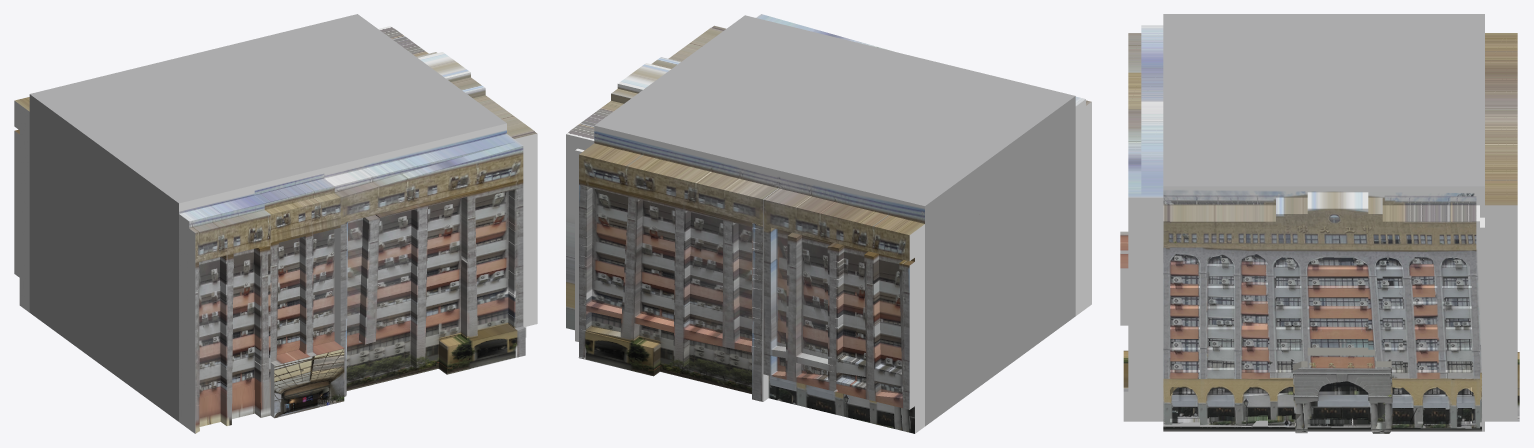
Rendered from zhongzheng.glb.
3 views of the same model, side by side, from view 1: azimuth 30°, elevation 25°; view 2: azimuth 150°, elevation 25°; view 3: azimuth 270°, elevation 25° (orthographic). The views are drawn at different scales.
Visible parts, largest first — view 1: 中正; view 2: 中正; view 3: 中正.
Boxes of the visible parts, left/top/right/bottom form: 中正: left=14, top=14, right=537, bottom=433; 中正: left=566, top=14, right=1091, bottom=433; 中正: left=1120, top=14, right=1519, bottom=433.
Size of the model in its own units: 0.6502 by 0.3668 by 0.5642.
4 materials, 1 textured.
